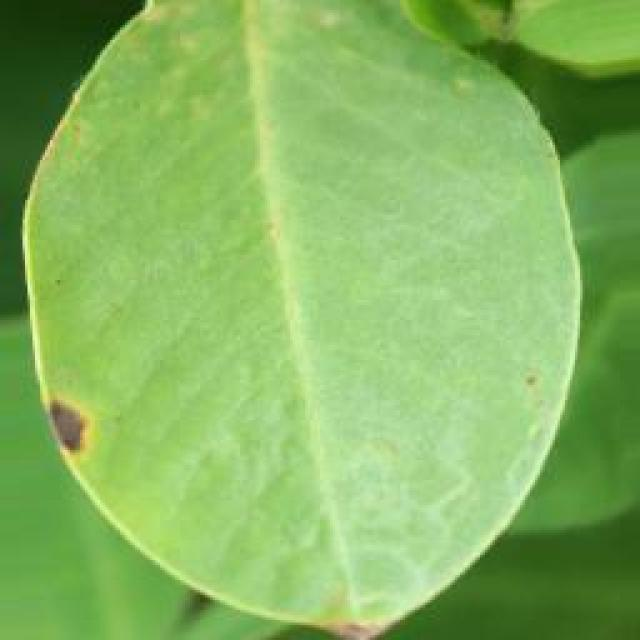Early_leaf_spot: (36, 367, 114, 484), (487, 352, 570, 430), (285, 592, 400, 640)
